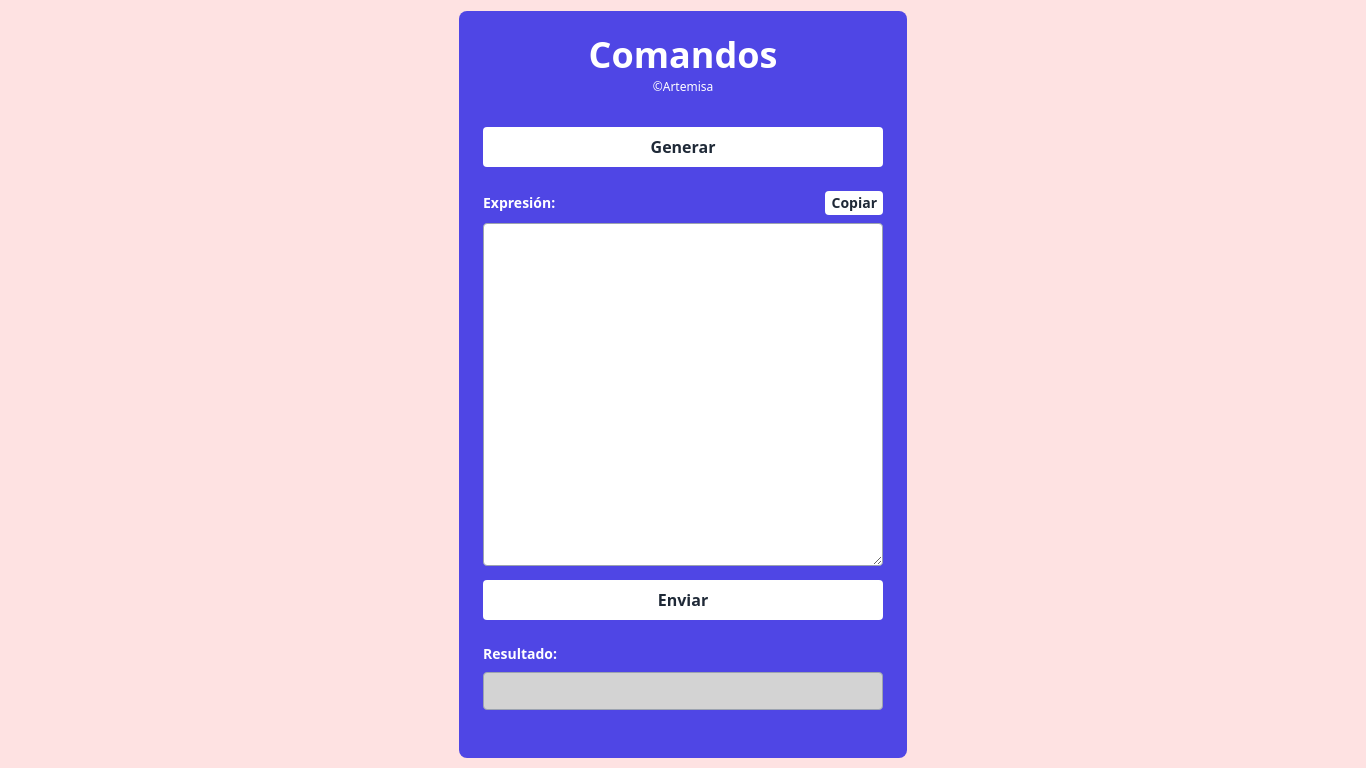
Test: Commands component › opens and closes ExpressionModal
The width and height of the screenshot is (1366, 768).
Click the button "Generar" at (683, 146), box [483, 126, 883, 166]
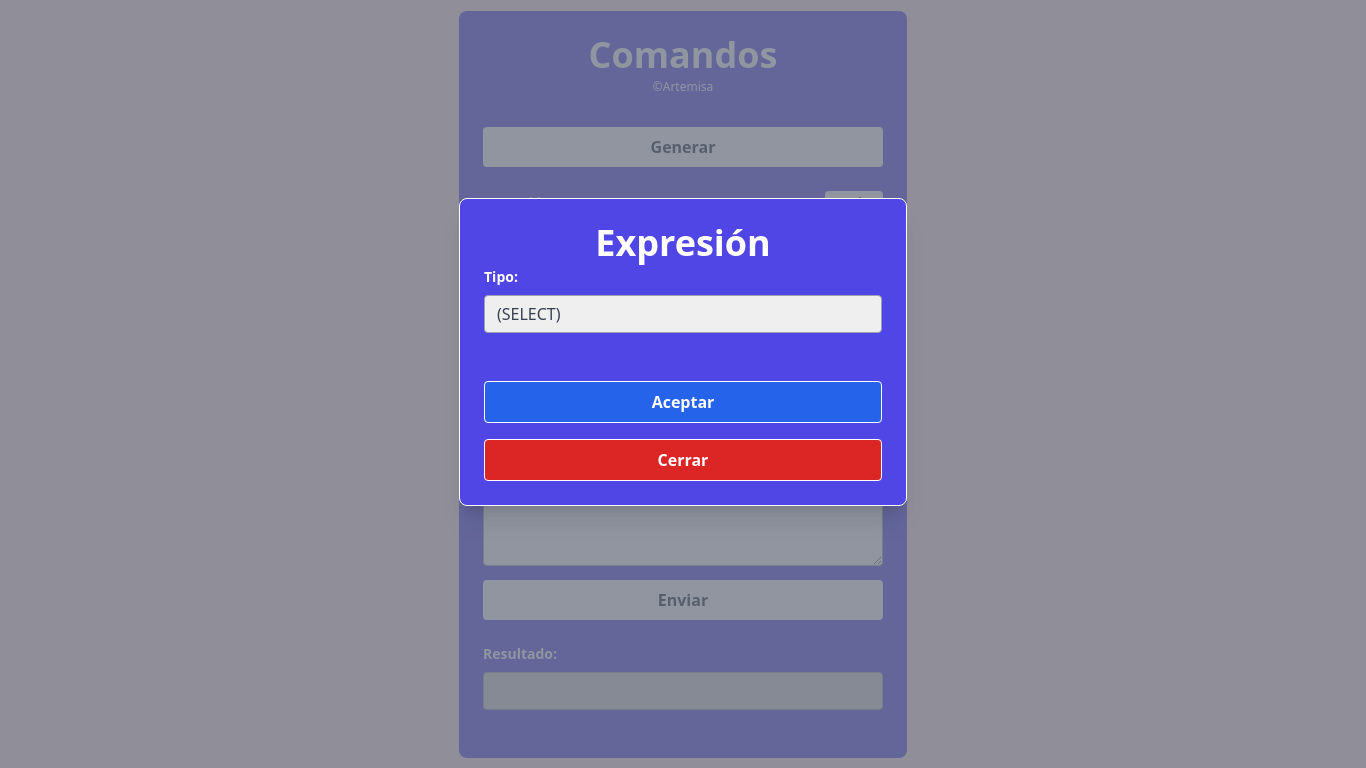
expect the button "Cerrar" is shown: met
Click the button "Cerrar" at (683, 460), box [484, 439, 882, 481]
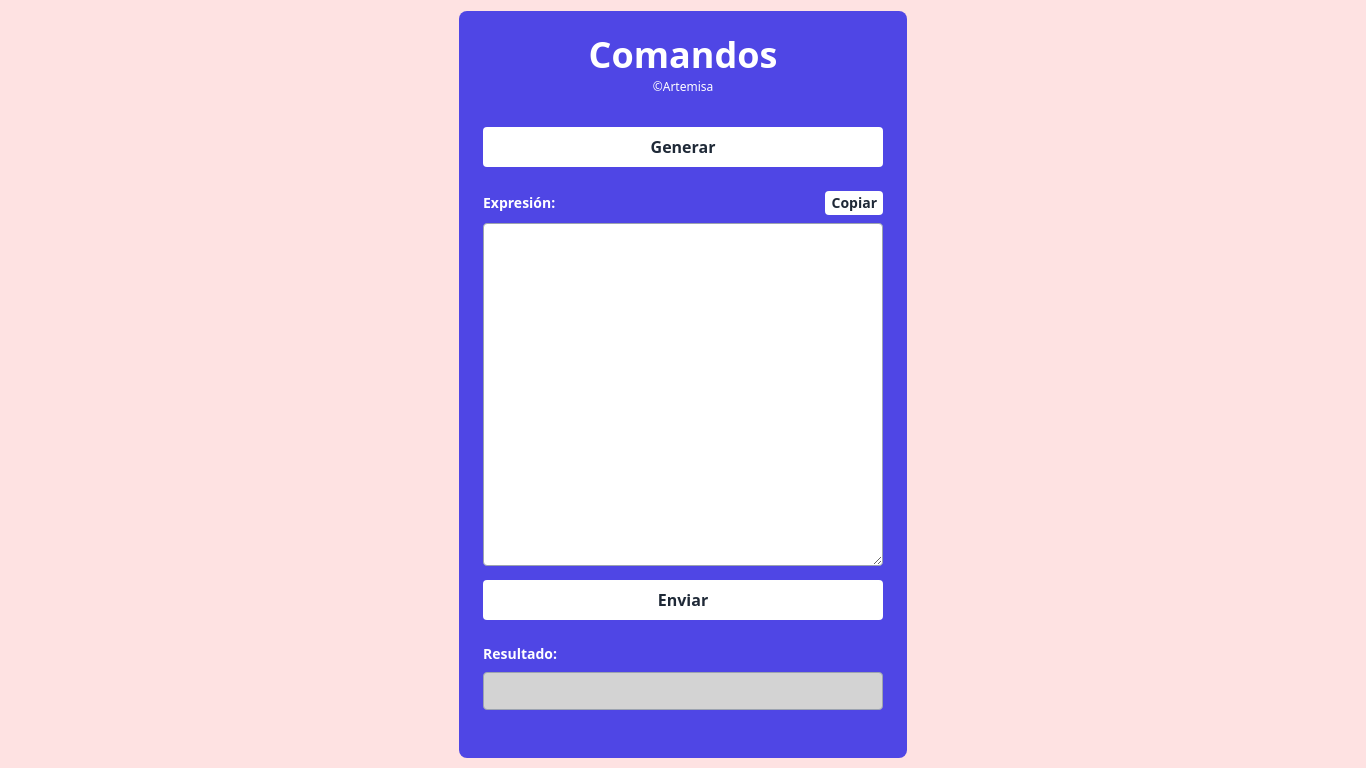
expect the button "Cerrar" is gone: met
